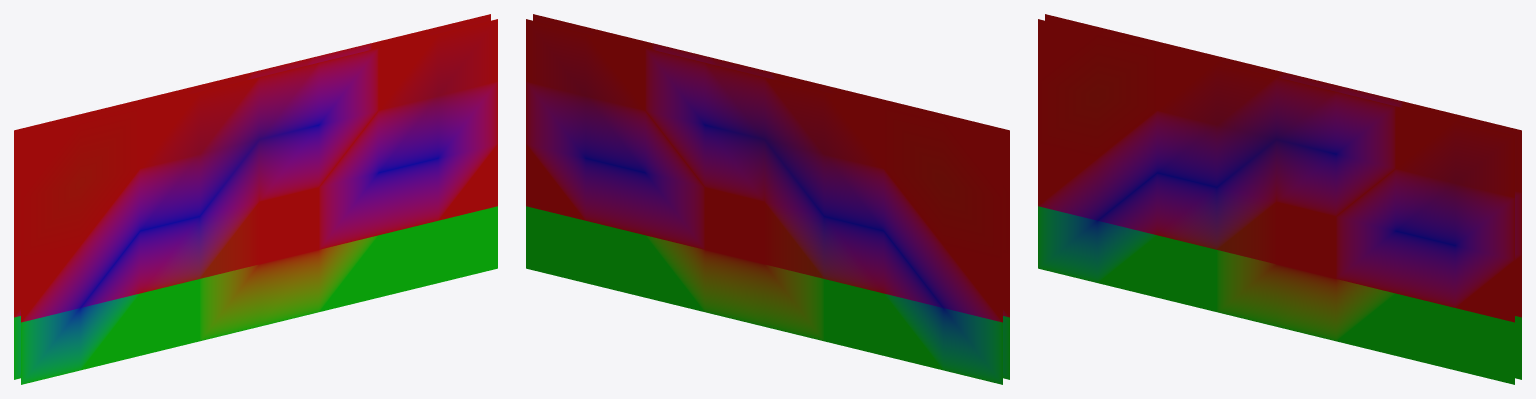
The model's file is WallA_16x8.fbx.
3 views of the same model, side by side, from view 1: azimuth 30°, elevation 25°; view 2: azimuth 150°, elevation 25°; view 3: azimuth 330°, elevation 25° (orthographic).
Parts seen in each view (by area): view 1: Plane.005; view 2: Plane.005; view 3: Plane.005.
Part boxes in pixels (<box>): Plane.005: <box>14,14,497,384</box>; Plane.005: <box>526,14,1009,384</box>; Plane.005: <box>1038,14,1521,384</box>.
Bounding box in the file's own units: 1600 × 800 × 40.
